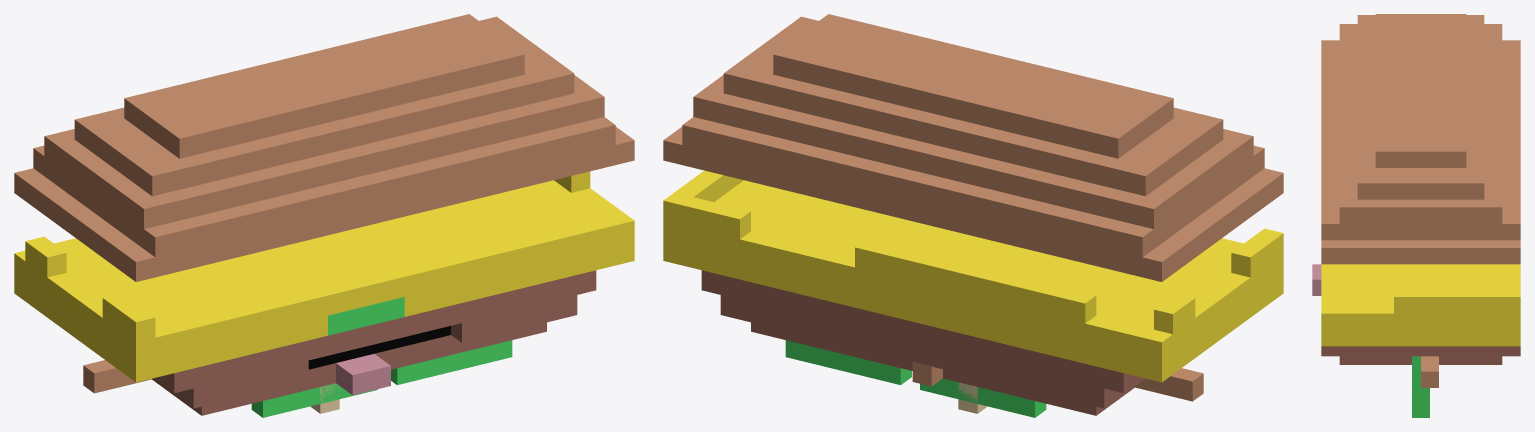
Rendered from sandwich.glb.
3 views of the same model, side by side, from view 1: azimuth 30°, elevation 25°; view 2: azimuth 150°, elevation 25°; view 3: azimuth 270°, elevation 25° (orthographic). The views are drawn at different scales.
Visible parts, largest first — view 1: Base, Cheese, glasses, circle-12 (11), a5; view 2: Base, Cheese, glasses, a5, sa1; view 3: Base, Cheese, glasses, a5, circle-12 (11).
Boxes of the visible parts, bbox=[...] form: Base: bbox=[14, 14, 634, 415]; Cheese: bbox=[14, 171, 634, 382]; glasses: bbox=[251, 340, 512, 417]; circle-12 (11): bbox=[336, 354, 390, 395]; a5: bbox=[83, 360, 151, 393]; Base: bbox=[663, 14, 1283, 415]; Cheese: bbox=[663, 170, 1283, 382]; glasses: bbox=[785, 340, 1046, 417]; a5: bbox=[1135, 368, 1203, 401]; sa1: bbox=[912, 362, 942, 386]; Base: bbox=[1321, 14, 1520, 364]; Cheese: bbox=[1321, 264, 1520, 346]; glasses: bbox=[1412, 356, 1429, 417]; a5: bbox=[1421, 356, 1438, 387]; circle-12 (11): bbox=[1312, 264, 1321, 295].
Bounding box in the file's own units: 26 × 16.5 × 11.5.
Materials: 20 (20 with a texture image).
